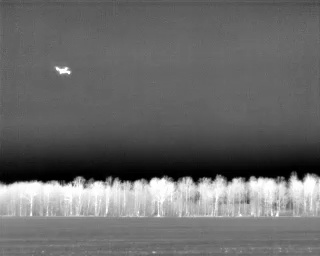DRONE: (52, 62, 75, 79)
